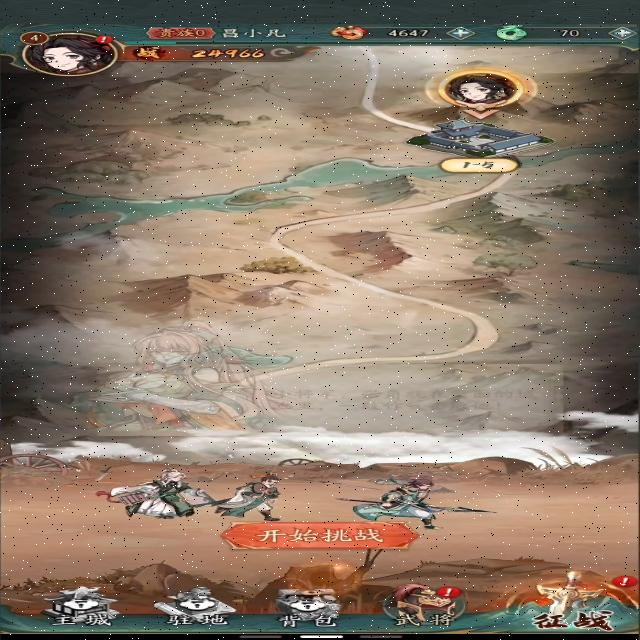hint-guide: (78, 322, 582, 439)
hint-reddot: (601, 573, 640, 590), (434, 583, 466, 600), (87, 34, 123, 48)
navigation-fight: (503, 568, 640, 632)
navigation-hero: (373, 581, 479, 631)
navigation-role: (6, 24, 131, 77)
navigation-station-off: (144, 584, 254, 630)
operation-confirm: (220, 518, 425, 552)
